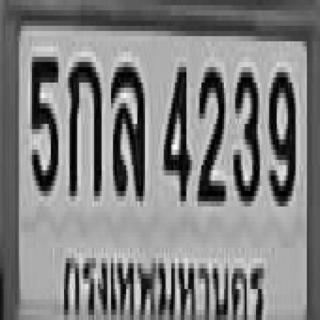A01: (66, 57, 100, 191)
A36: (109, 57, 143, 191)
N02: (196, 62, 224, 196)
N03: (232, 62, 258, 201)
N04: (162, 62, 188, 196)
N05: (30, 52, 56, 191)
N09: (267, 67, 294, 201)
P04: (56, 237, 267, 320)
